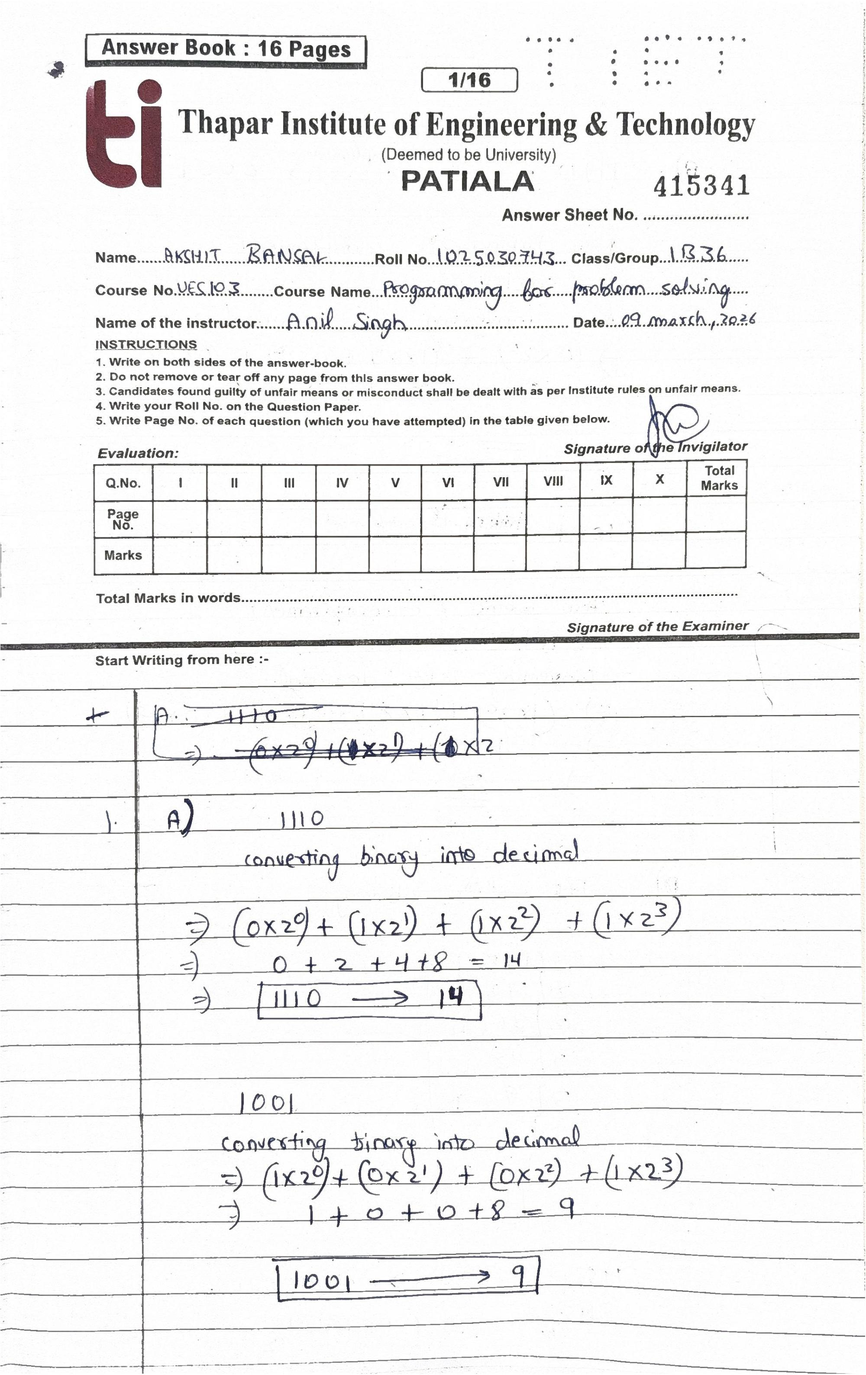cuttings: (151, 702, 495, 777), (85, 707, 111, 724)
